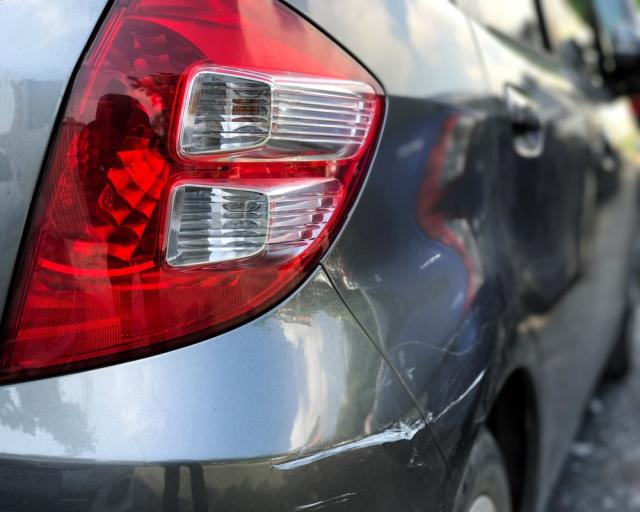scratch: (269, 416, 427, 471), (286, 490, 358, 512)
